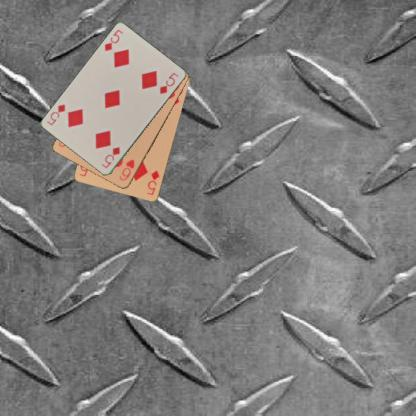5d: (99, 144, 121, 170), (102, 27, 124, 53), (144, 168, 160, 196)
6h: (116, 157, 135, 182)
